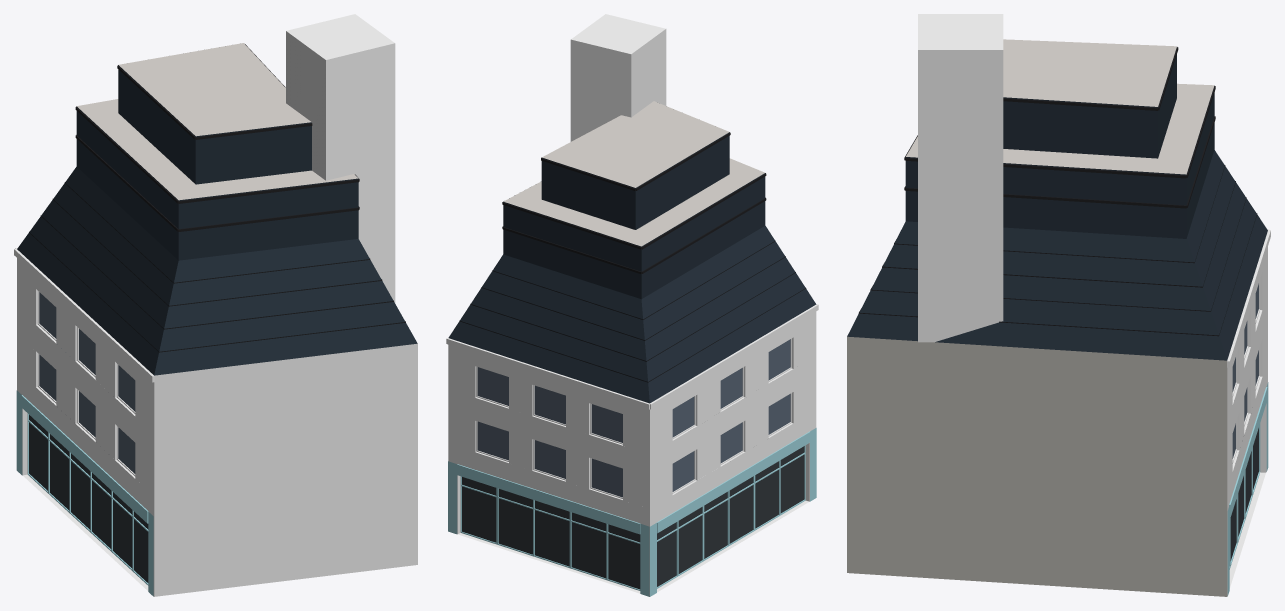
File: hoffman525.glb
The picture shows the model from 3 angles, left to right: view 1: azimuth 30°, elevation 25°; view 2: azimuth 150°, elevation 25°; view 3: azimuth 270°, elevation 25°; orthographic projection. The views are drawn at different scales.
Visible parts, largest first — view 1: hoffman525; view 2: hoffman525; view 3: hoffman525.
Boxes of the visible parts, x1,y1,x2,y2 form: hoffman525: [14, 14, 417, 596]; hoffman525: [446, 14, 818, 596]; hoffman525: [847, 14, 1270, 596].
Size of the model in its own units: 14.57 by 24.6 by 17.88.
